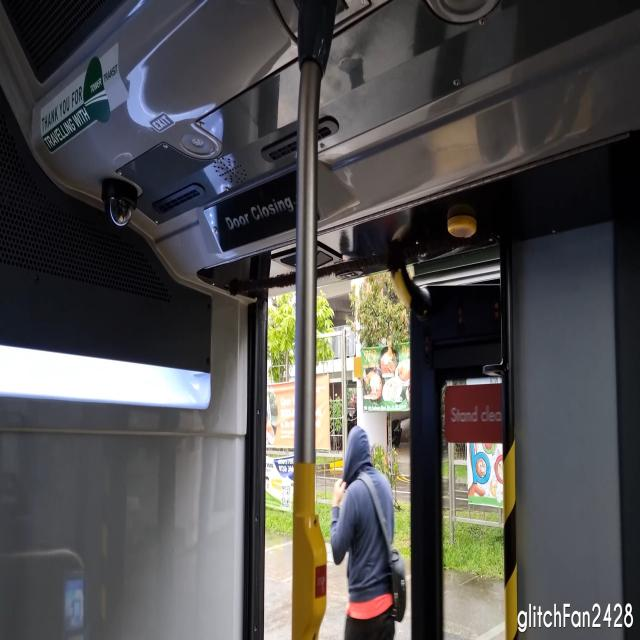bus-door: (410, 284, 514, 640)
